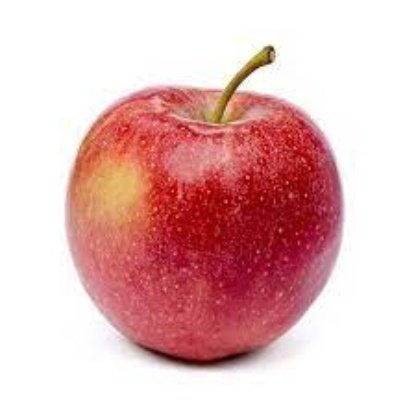tao: (61, 69, 342, 376)
